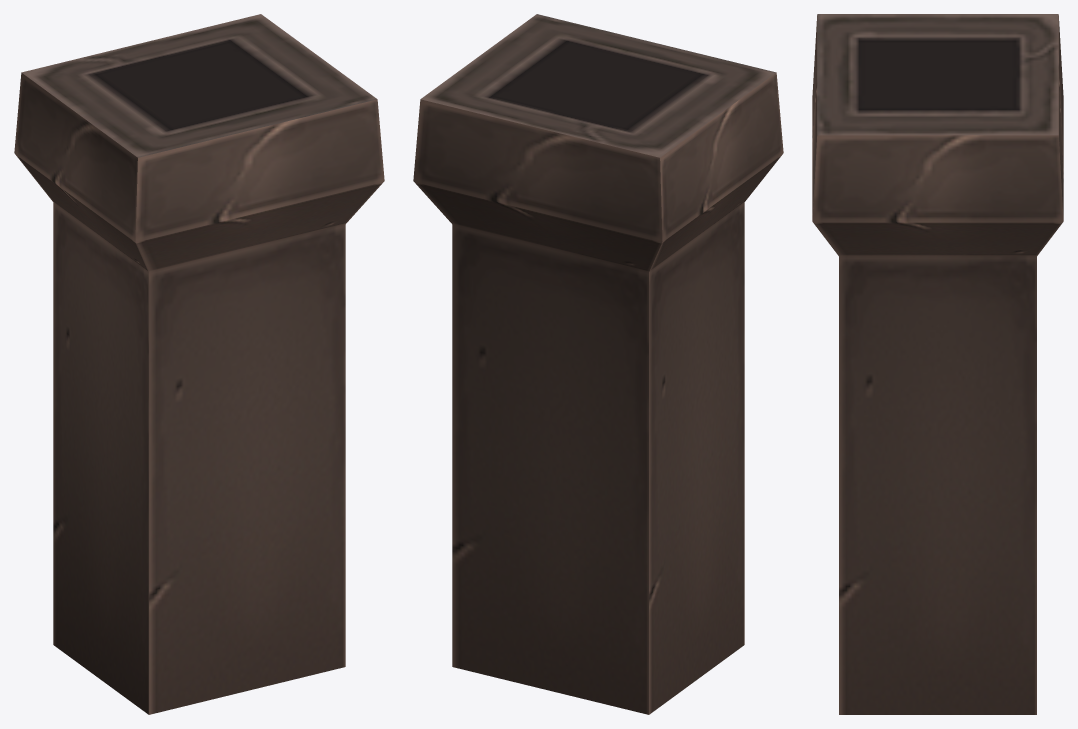
Rendered from chimney.fbx.
3 renders of one model, left to right at view 1: azimuth 30°, elevation 25°; view 2: azimuth 150°, elevation 25°; view 3: azimuth 270°, elevation 25°, orthographic. The views are drawn at different scales.
Visible parts, largest first — view 1: pCube1; view 2: pCube1; view 3: pCube1.
Boxes of the visible parts, x1,y1,x2,y2 form: pCube1: [14, 14, 384, 714]; pCube1: [413, 14, 783, 714]; pCube1: [812, 14, 1063, 714].
Size of the model in its own units: 1.09 by 2.39 by 0.9198.
